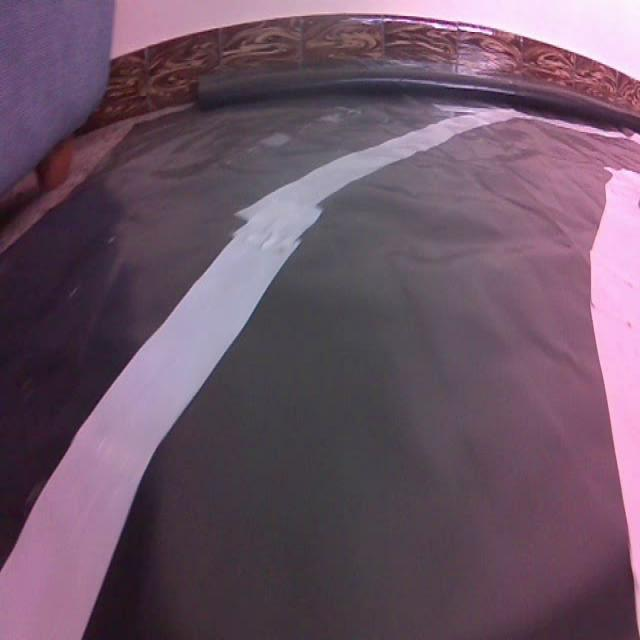LineaCarril: (0, 110, 518, 638), (590, 168, 640, 631)
